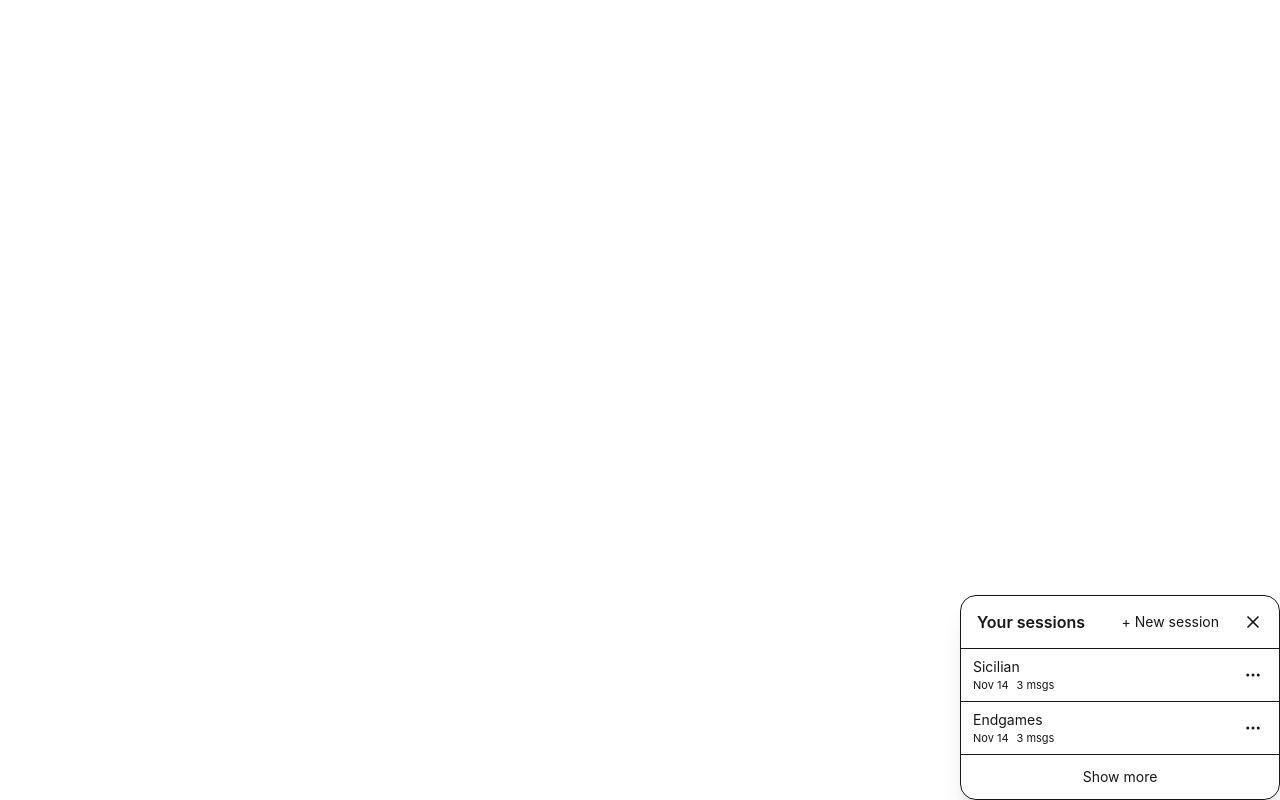
CoachSessions — touch-friendly row actions › Esc cancels a rename
(page scrolled)
Click the button named "Session actions" in the row of "Sicilian" at (1253, 675), box [1231,653,1275,697]
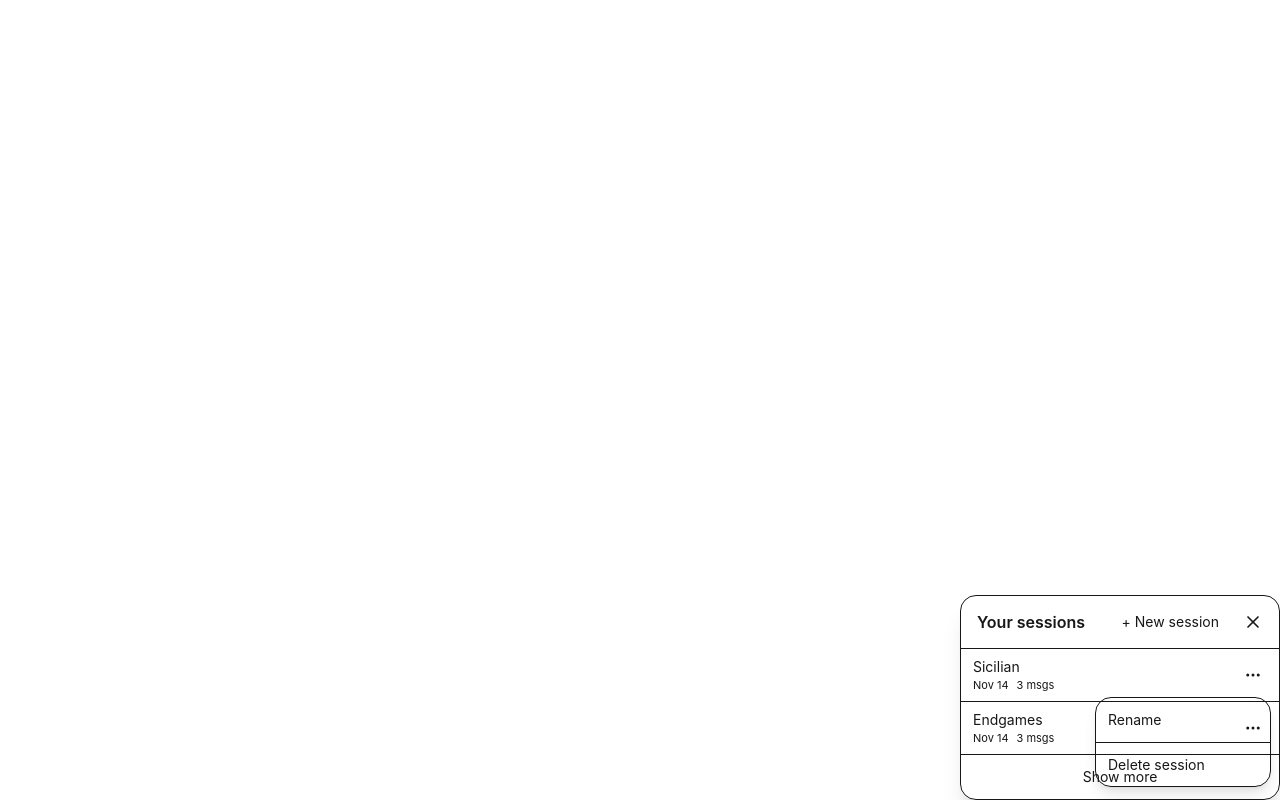
Click the menu item "Rename" at (1183, 720), box [1096,698,1270,742]
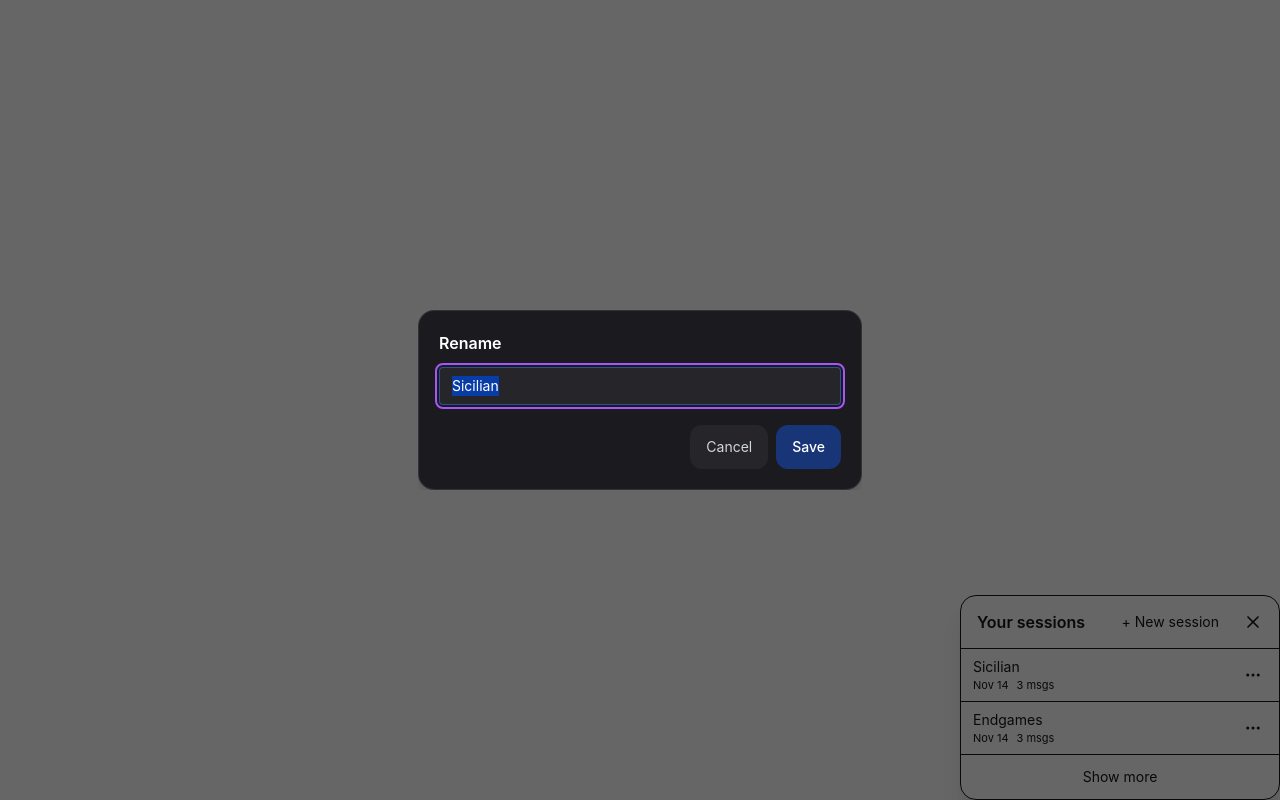
Press Escape in the dialog "Rename", box [418,310,862,490]
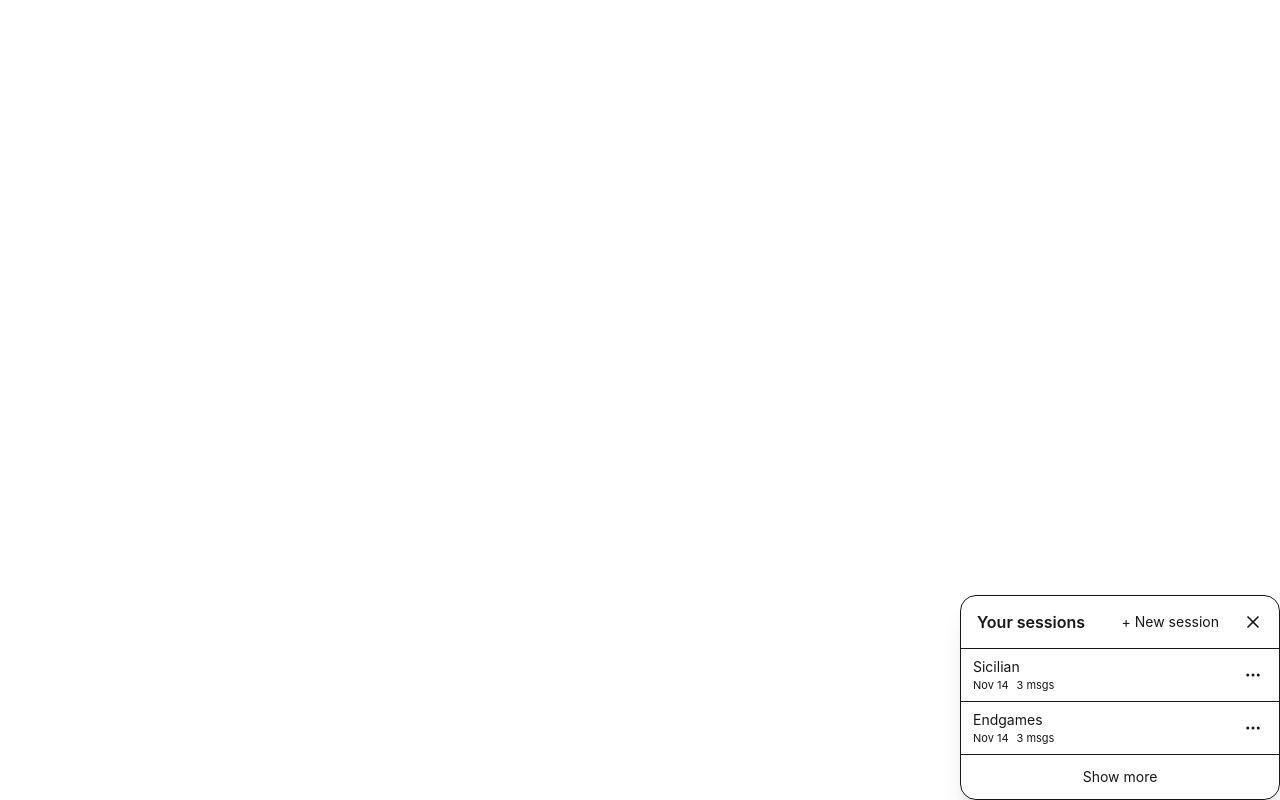
Now the heading "Rename" is gone
